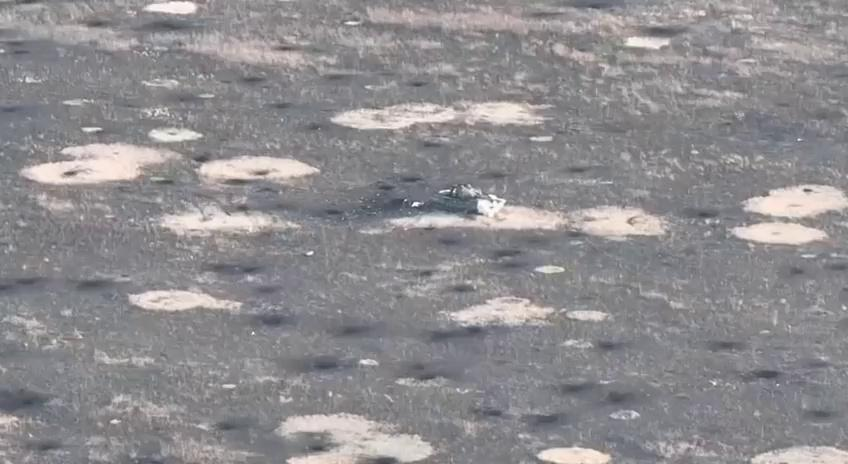vehicle: (430, 184, 507, 217)
